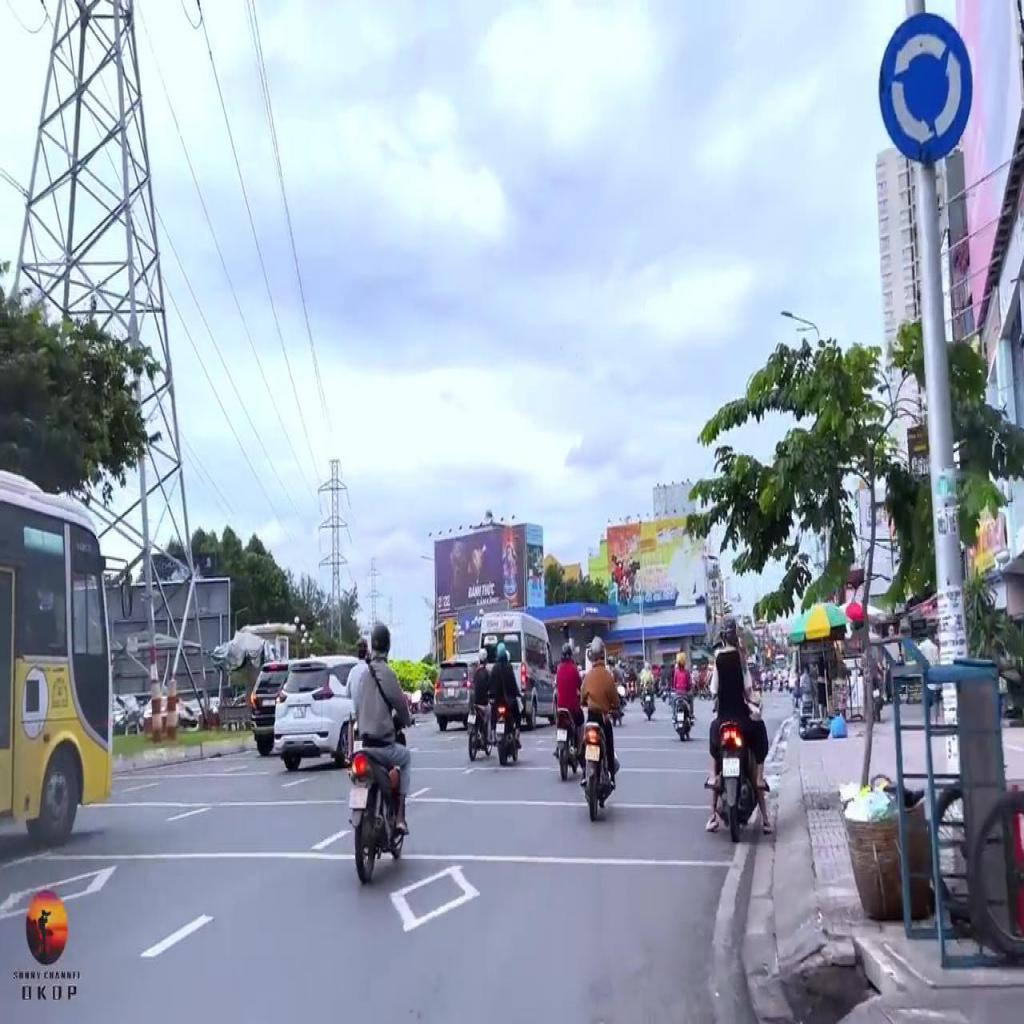noi_giao_nhau_chay_theo_vong: (880, 12, 974, 164)
